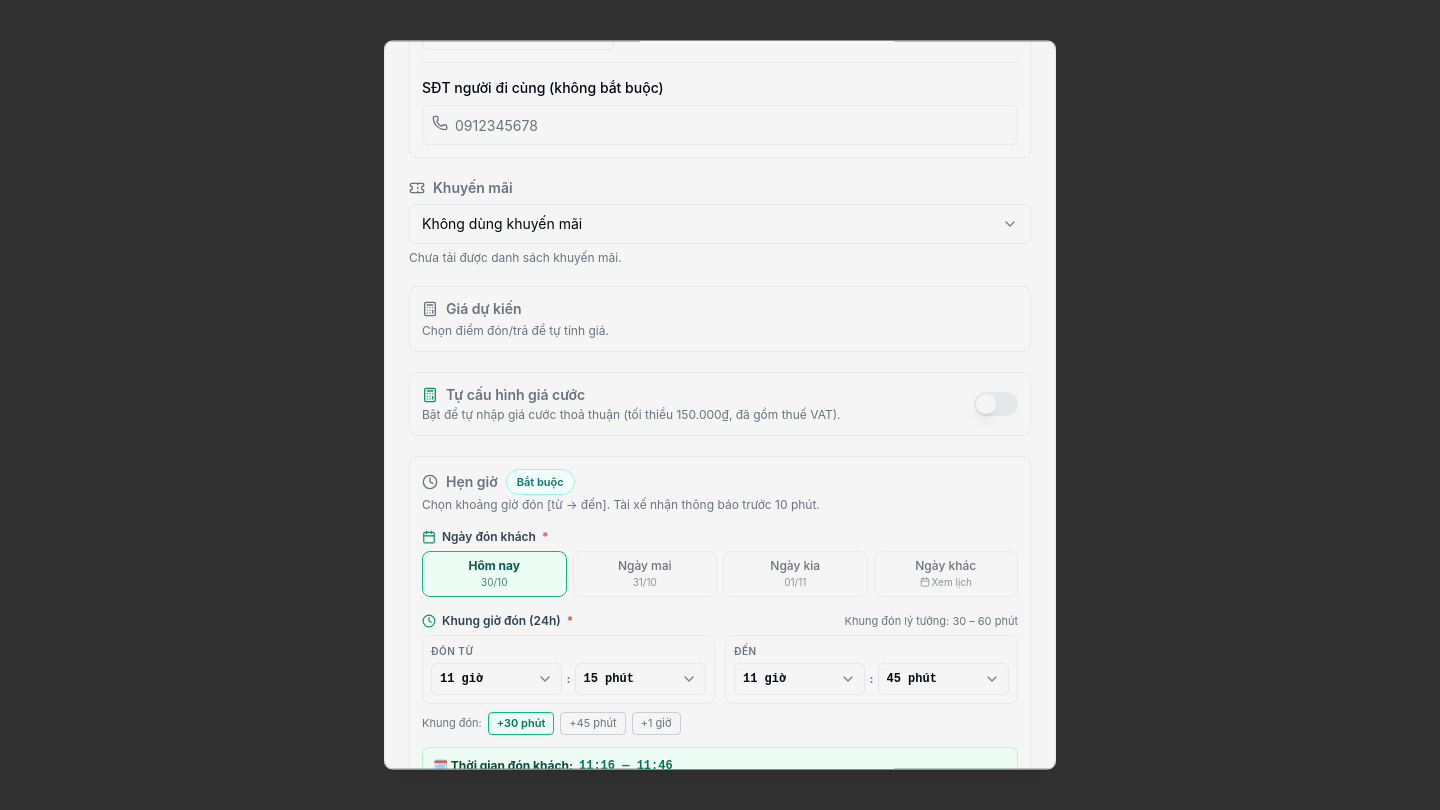
CreateBookingDialog — Tự cấu hình giá cước (tối thiểu 150k, đã bao gồm thuế) › chọn nút gợi ý nhanh cập nhật đúng giá cước
(page scrolled)
Click the switch named "Tự cấu hình giá cước".
click(996, 404)  # box top-left (974, 392), bottom-right (1018, 416)
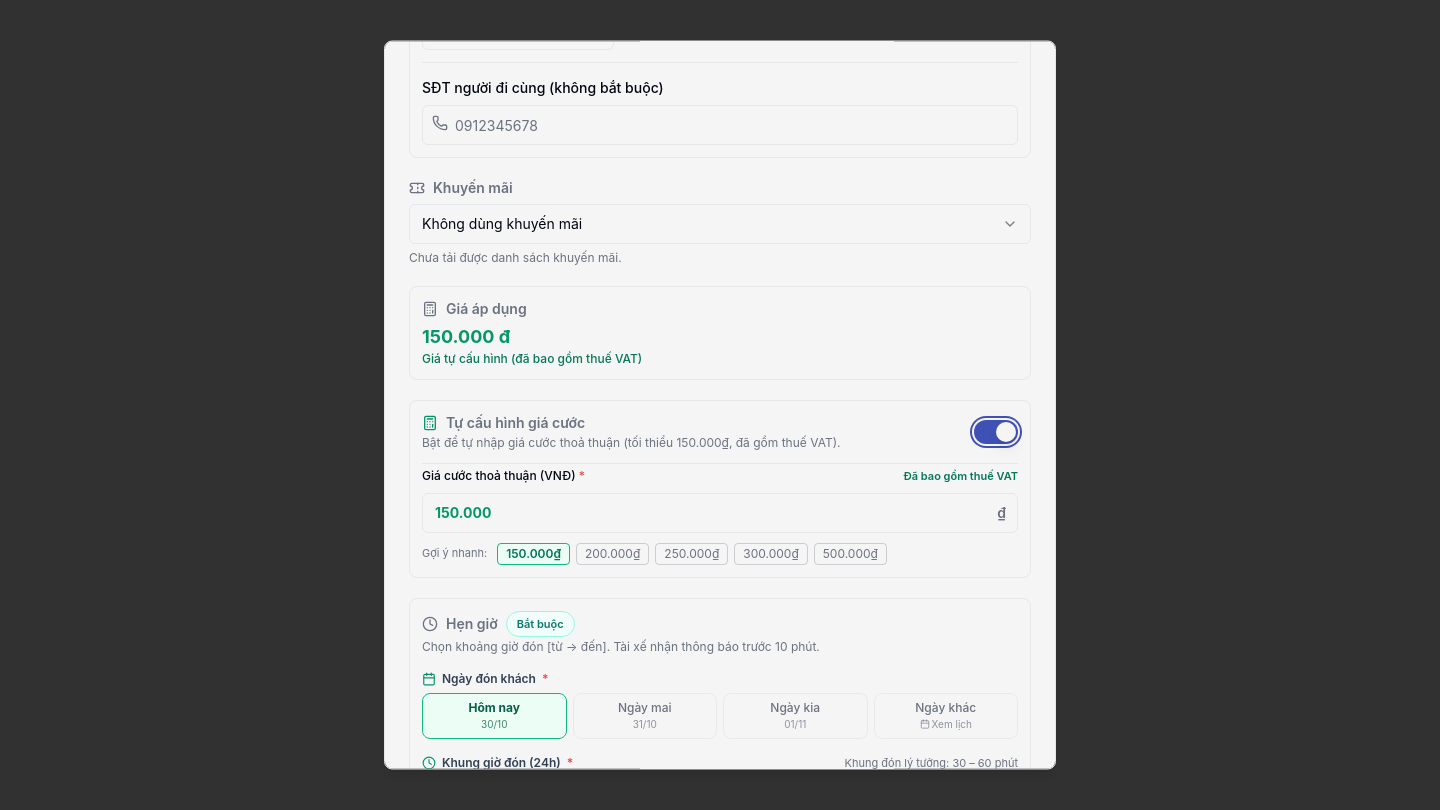
Click the button "200.000₫".
click(613, 554)  # box top-left (576, 543), bottom-right (649, 565)
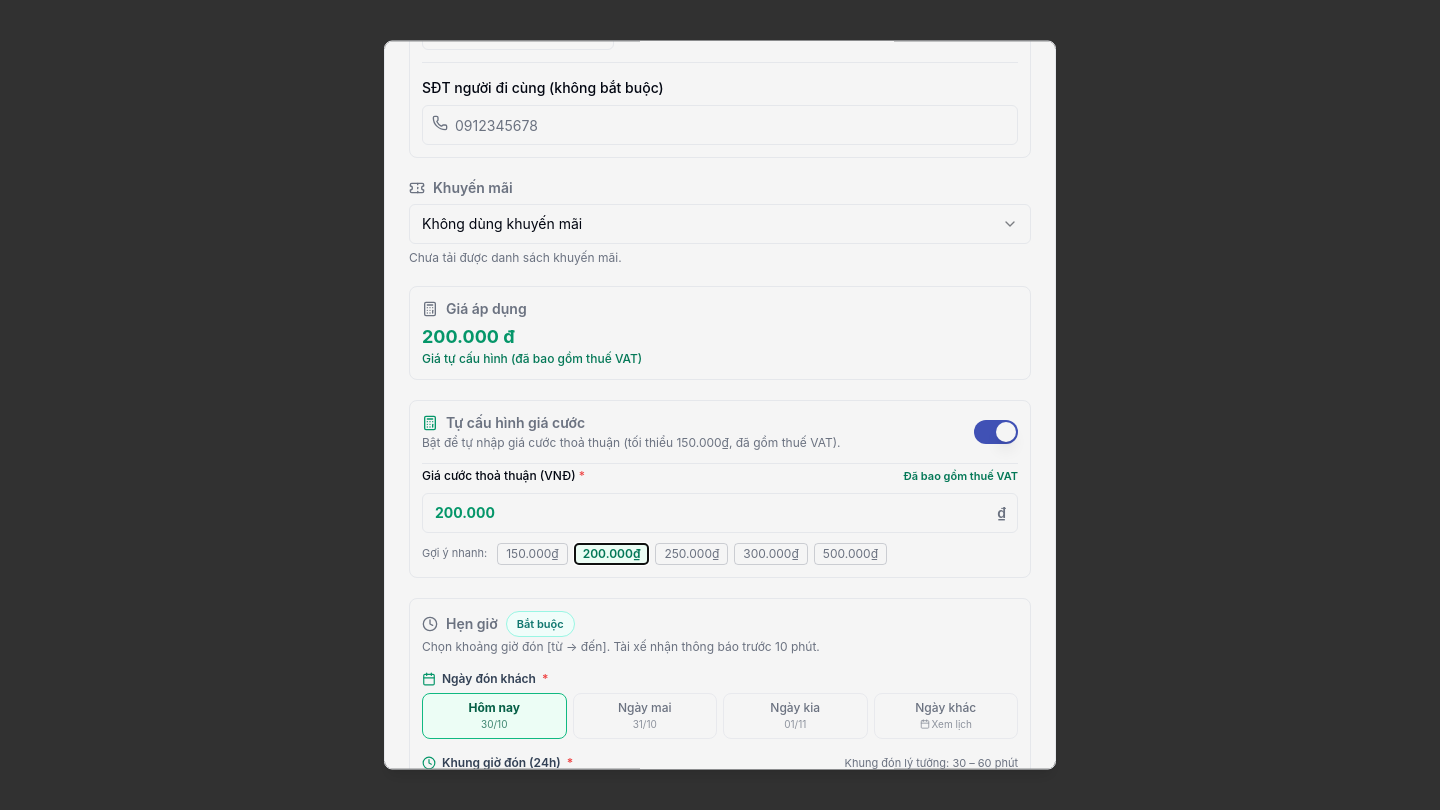
Check: the field labelled "Giá cước thoả thuận (VNĐ) *" holds "200.000", box top-left (422, 493), bottom-right (1018, 533)
